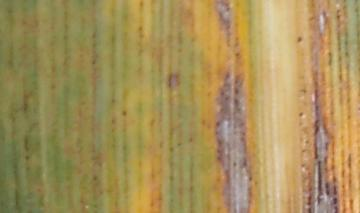tarspot: (294, 35, 304, 44), (120, 108, 128, 117), (297, 110, 304, 118), (233, 50, 240, 57)
